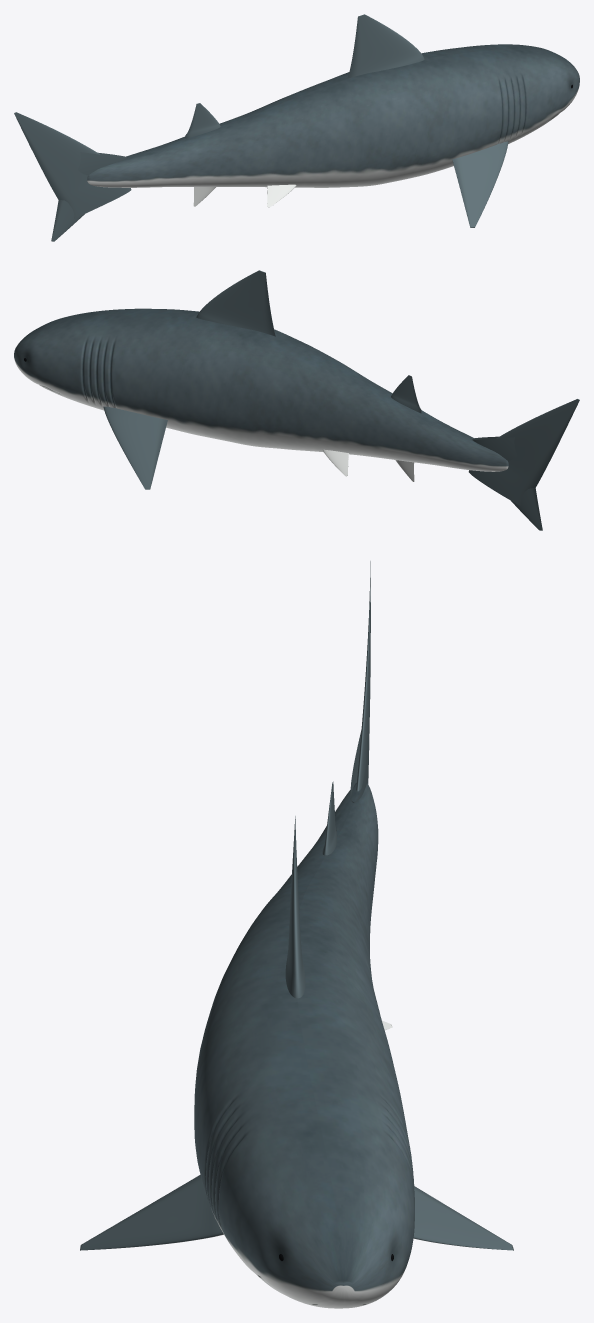
Rendered from bull_shark.glb.
3 views of the same model, one above another, from view 1: azimuth 30°, elevation 25°; view 2: azimuth 150°, elevation 25°; view 3: azimuth 270°, elevation 25° (orthographic). The views are drawn at different scales.
Parts seen in each view (by area): view 1: BullShark_Body, BullShark_Fins; view 2: BullShark_Body, BullShark_Fins; view 3: BullShark_Body, BullShark_Fins.
Boxes of the visible parts, <box> form: BullShark_Body: <box>87,44,579,187</box>; BullShark_Fins: <box>14,14,508,241</box>; BullShark_Body: <box>14,308,508,471</box>; BullShark_Fins: <box>103,270,579,530</box>; BullShark_Body: <box>194,783,414,1308</box>; BullShark_Fins: <box>80,561,513,1250</box>.
Size of the model in its own units: 2.4 by 0.7744 by 0.811.
Materials: 3 (1 with a texture image).
